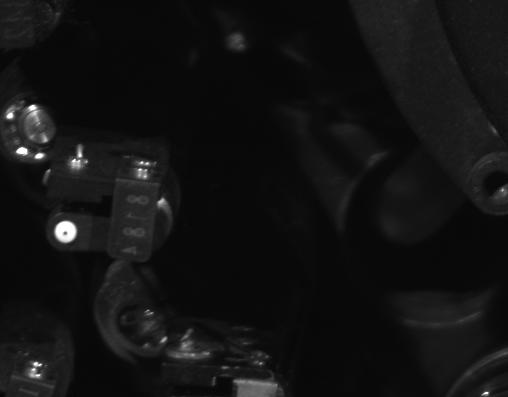fiber: (48, 215, 85, 253)
